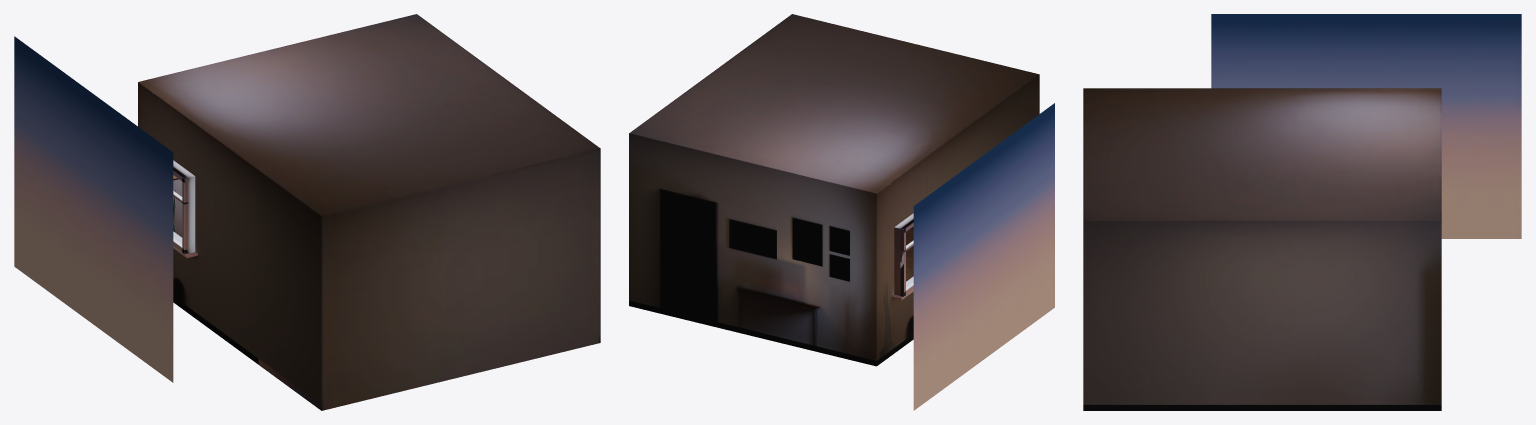
File: room.glb
The picture shows the model from 3 angles, left to right: view 1: azimuth 30°, elevation 25°; view 2: azimuth 150°, elevation 25°; view 3: azimuth 270°, elevation 25°; orthographic projection. The views are drawn at different scales.
Parts seen in each view (by area): view 1: wall_front, ceiling, sky, wall_left_b, wall_left_d, wall_left_c, skirt_left_a, wall_left_a, window_frame, reveal_r; view 2: wall_back, ceiling, sky, wall_left_b, wall_left_a, wall_left_d, wall_left_c, reveal_l; view 3: wall_right, ceiling, sky, skirt_right.
Boxes of the visible parts, x1,y1,x2,y2 form: wall_front: (321,148,600,410); ceiling: (138,14,600,216); sky: (14,36,173,382); wall_left_b: (195,124,321,410); wall_left_d: (157,97,195,175); wall_left_c: (173,249,195,317); skirt_left_a: (173,296,322,410); wall_left_a: (138,82,157,140); window_frame: (173,167,188,254); reveal_r: (184,176,195,254); wall_back: (629,133,876,366); ceiling: (629,14,1039,193); sky: (913,103,1054,410); wall_left_b: (927,75,1039,195); wall_left_a: (876,181,894,365); wall_left_d: (894,156,927,226); wall_left_c: (894,292,913,353); reveal_l: (894,227,903,296); wall_right: (1083,221,1441,410); ceiling: (1083,88,1441,221); sky: (1211,14,1521,238); skirt_right: (1083,405,1441,410).
Size of the model in its own units: 5.25 by 3.2 by 5.65.
Materials: 9 (6 with a texture image).
